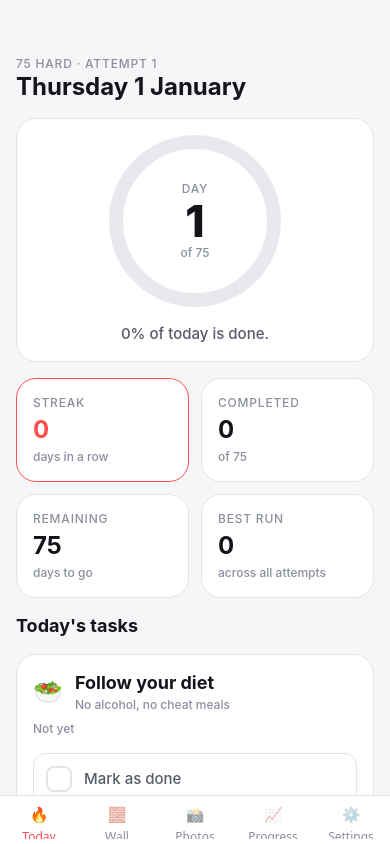
Scenario: Settings: backup and restore › shows the "Your data" section with both actions
This screenshot has width=390, height=844.
Expected: the text "Today" is shown, x1=22 y1=829 x2=56 y2=839
Click the text "Settings" at (351, 834), box x1=328 y1=829 x2=374 y2=839
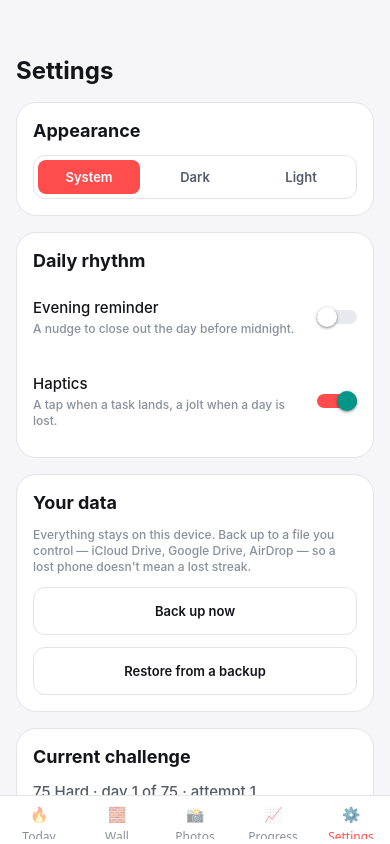
Expected: the text "Your data" is shown, x1=33 y1=492 x2=117 y2=513
Expected: the text "Back up now" is shown, x1=155 y1=602 x2=235 y2=620
Expected: the text "Restore from a backup" is shown, x1=124 y1=662 x2=266 y2=680
